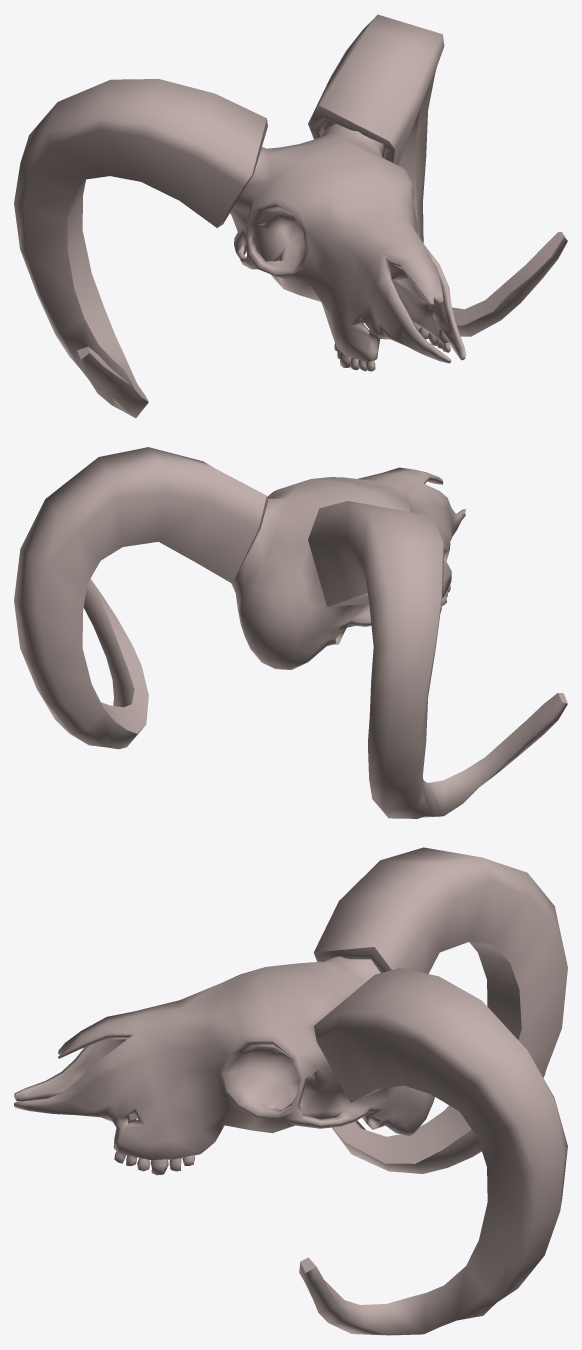
The model's file is SM_GoatProjectile.fbx.
The picture shows the model from 3 angles, top to bottom: view 1: azimuth 30°, elevation 25°; view 2: azimuth 150°, elevation 25°; view 3: azimuth 270°, elevation 25°; orthographic projection. The views are drawn at different scales.
Parts seen in each view (by area): view 1: GoatRetopoLevel1; view 2: GoatRetopoLevel1; view 3: GoatRetopoLevel1.
Boxes of the visible parts, x1,y1,x2,y2 form: GoatRetopoLevel1: [14, 14, 567, 418]; GoatRetopoLevel1: [14, 447, 567, 818]; GoatRetopoLevel1: [14, 847, 567, 1335].
Bounding box in the file's own units: 83.79 × 49.92 × 75.19.
